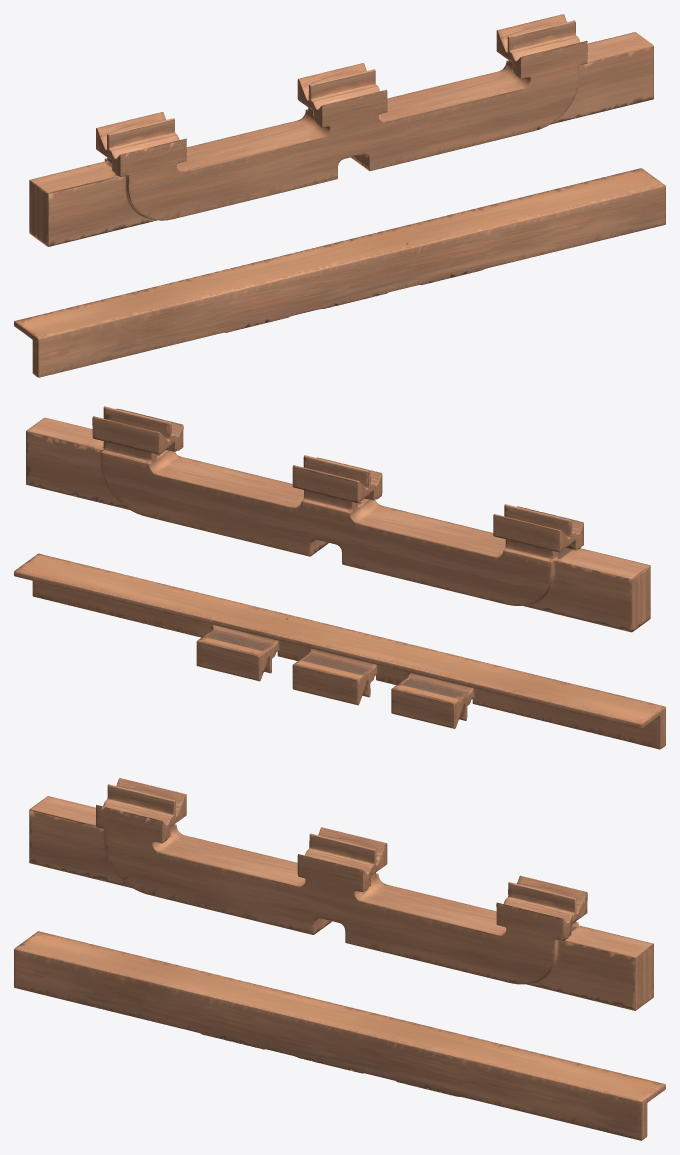
The model's file is 9三道柱头枋（隐刻长栱）、散斗、替木（通檐.glb.
The picture shows the model from 3 angles, top to bottom: view 1: azimuth 30°, elevation 25°; view 2: azimuth 150°, elevation 25°; view 3: azimuth 330°, elevation 25°; orthographic projection.
Bounding box in the file's own units: 1.9 × 0.6541 × 0.1283.
Materials: 1 (1 with a texture image).
